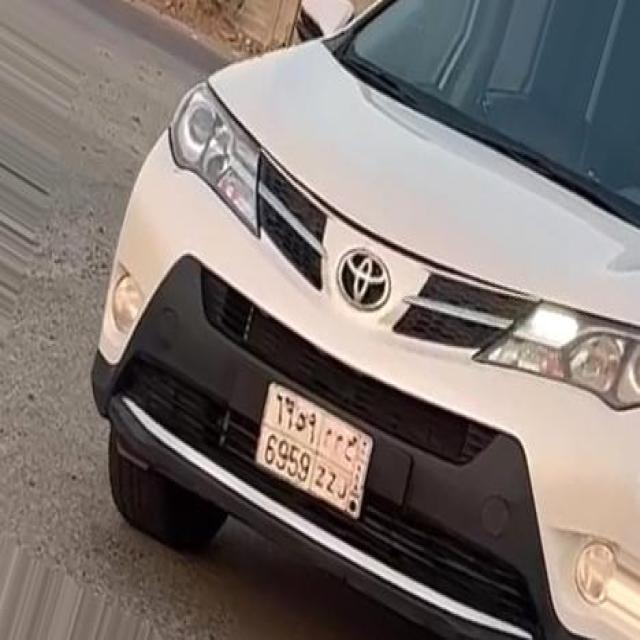Car-plate: (241, 361, 388, 531)
